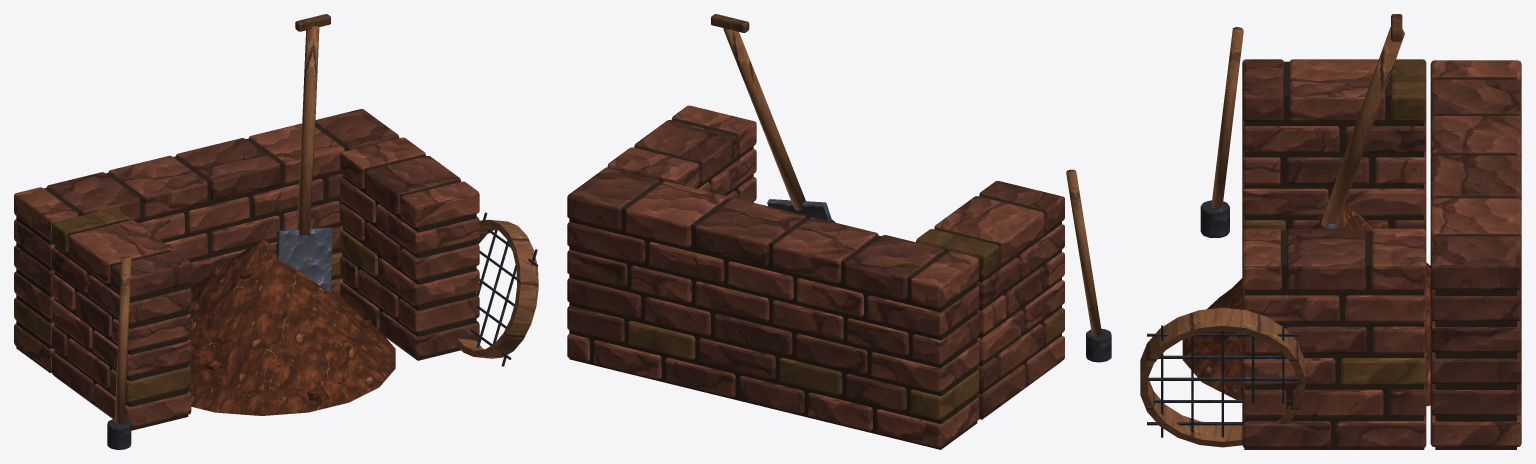
File: cf_sand_bin.glb
3 renders of one model, left to right at view 1: azimuth 30°, elevation 25°; view 2: azimuth 150°, elevation 25°; view 3: azimuth 270°, elevation 25°, orthographic. The views are drawn at different scales.
Parts seen in each view (by area): view 1: model; view 2: model; view 3: model.
Boxes of the visible parts, x1,y1,x2,y2 form: model: [14, 14, 538, 449]; model: [567, 14, 1111, 449]; model: [1140, 14, 1521, 449].
Bounding box in the file's own units: 1.52 × 1.07 × 1.01.
12 materials, 11 textured.
